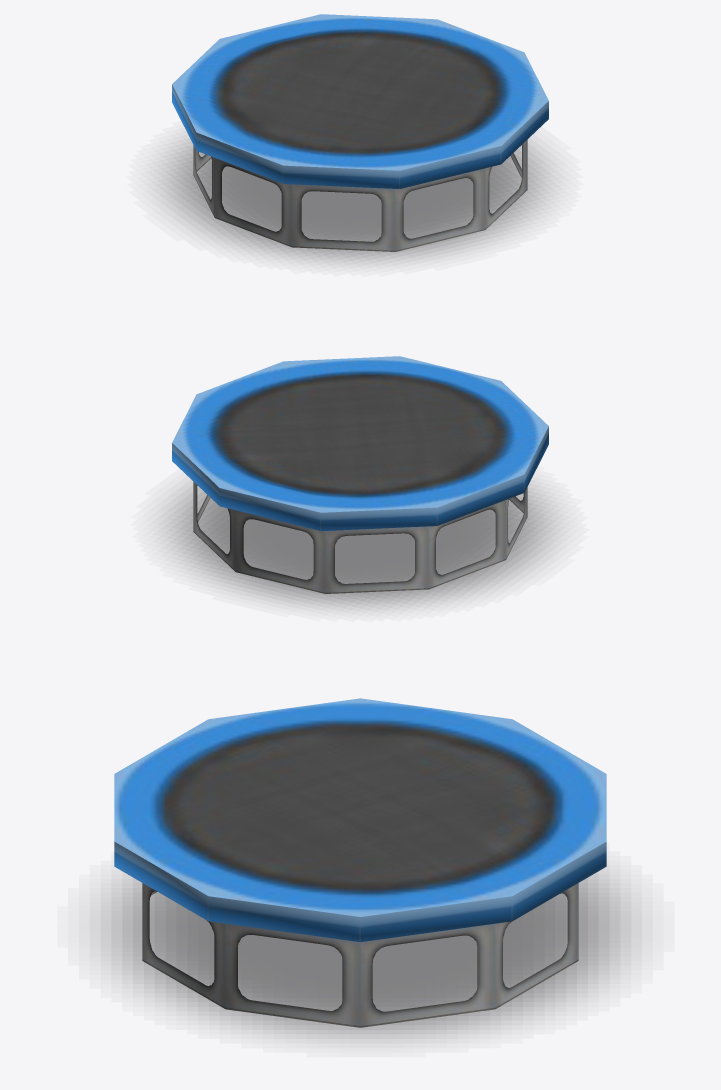
The model's file is trampoline.glb.
3 views of the same model, one above another, from view 1: azimuth 30°, elevation 25°; view 2: azimuth 150°, elevation 25°; view 3: azimuth 270°, elevation 25° (orthographic). The views are drawn at different scales.
Parts seen in each view (by area): view 1: tramp_top, tramp_shadow, tramp_Base; view 2: tramp_top, tramp_shadow, tramp_Base; view 3: tramp_top, tramp_shadow, tramp_Base.
Part boxes in pixels (<box>): tramp_top: <box>172,14,548,188</box>; tramp_shadow: <box>158,138,553,263</box>; tramp_Base: <box>193,140,527,251</box>; tramp_top: <box>172,356,548,530</box>; tramp_shadow: <box>162,484,557,609</box>; tramp_Base: <box>193,482,527,593</box>; tramp_top: <box>114,698,606,941</box>; tramp_shadow: <box>101,872,631,1038</box>; tramp_Base: <box>142,883,578,1027</box>.
Size of the model in its own units: 18.66 by 3.66 by 18.66.
3 materials, 3 textured.
